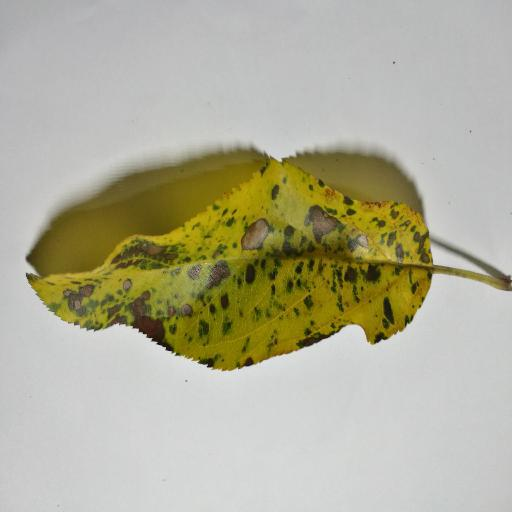Brown_Spot: (306, 208, 337, 245), (120, 241, 175, 261), (130, 307, 158, 339), (64, 289, 98, 310), (240, 222, 267, 244), (189, 264, 209, 281), (211, 259, 223, 283), (176, 304, 193, 315), (393, 244, 403, 258), (125, 277, 132, 284)
